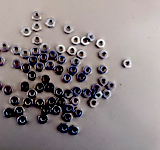nut: (38, 114, 49, 125), (3, 85, 13, 96), (9, 96, 20, 106), (4, 108, 14, 119), (15, 106, 25, 117), (18, 115, 28, 126), (11, 45, 22, 55), (11, 59, 22, 69), (62, 74, 73, 84), (71, 57, 82, 67), (20, 49, 31, 59), (40, 43, 51, 53), (28, 55, 38, 66), (60, 124, 70, 134), (70, 126, 80, 136), (74, 108, 84, 118), (63, 113, 73, 123), (52, 106, 62, 116), (35, 98, 45, 108), (23, 98, 33, 108), (20, 82, 30, 92), (27, 71, 37, 81), (0, 42, 10, 52), (32, 35, 42, 45), (22, 26, 32, 36), (32, 22, 42, 32), (32, 11, 42, 21), (46, 18, 56, 28), (64, 24, 74, 34), (56, 44, 66, 54), (71, 35, 81, 45), (68, 46, 78, 56), (57, 55, 67, 65), (55, 65, 65, 75), (46, 83, 56, 93), (41, 75, 51, 85), (35, 83, 45, 93), (27, 89, 37, 99), (98, 65, 108, 75), (99, 50, 109, 60), (86, 32, 96, 42), (47, 97, 57, 107), (54, 88, 64, 98), (72, 87, 82, 97), (64, 89, 74, 99), (83, 88, 93, 98), (31, 46, 41, 56), (35, 62, 45, 72), (39, 52, 49, 62), (21, 63, 31, 73), (123, 59, 133, 69), (96, 39, 106, 48), (83, 66, 93, 75), (77, 73, 87, 82), (68, 66, 78, 75), (77, 50, 87, 59), (81, 36, 90, 46), (89, 99, 99, 108), (48, 51, 58, 60), (45, 61, 55, 70), (71, 97, 80, 106), (65, 104, 74, 113), (103, 90, 112, 99), (100, 77, 109, 86), (93, 84, 102, 93), (94, 91, 103, 100), (108, 81, 116, 91), (41, 106, 51, 114), (58, 99, 67, 107), (0, 56, 5, 66), (0, 81, 2, 91)
